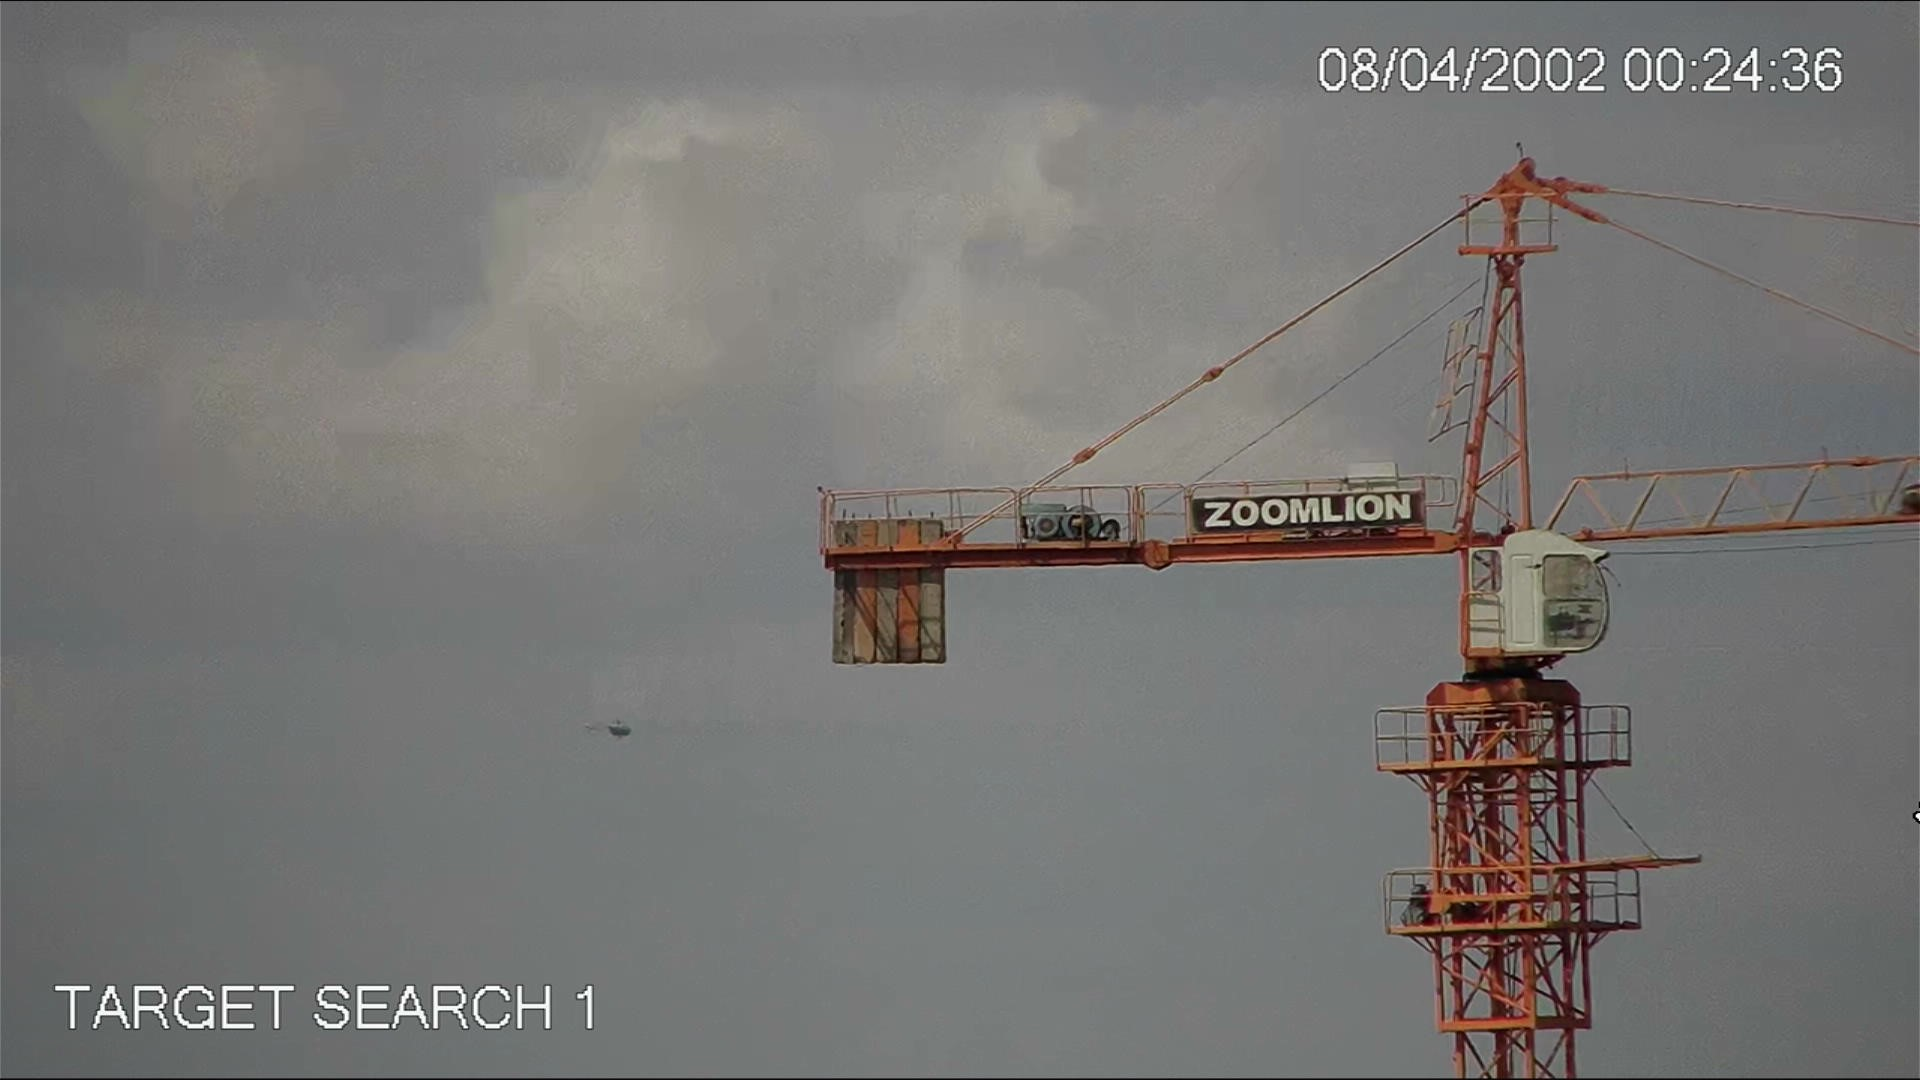SU_30: (578, 713, 636, 740)
